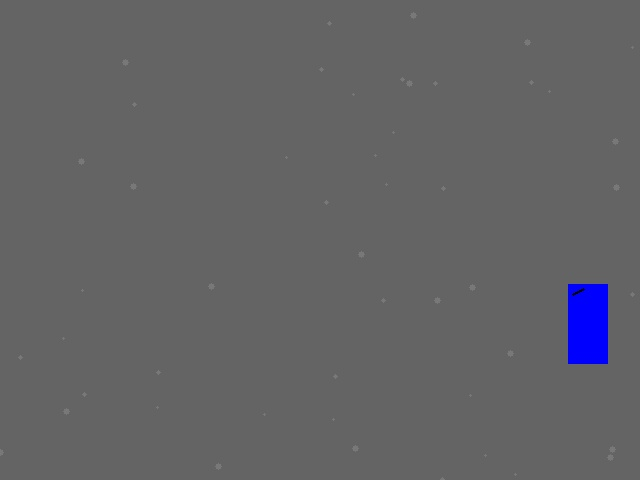motorcycle: (568, 284, 607, 363)
